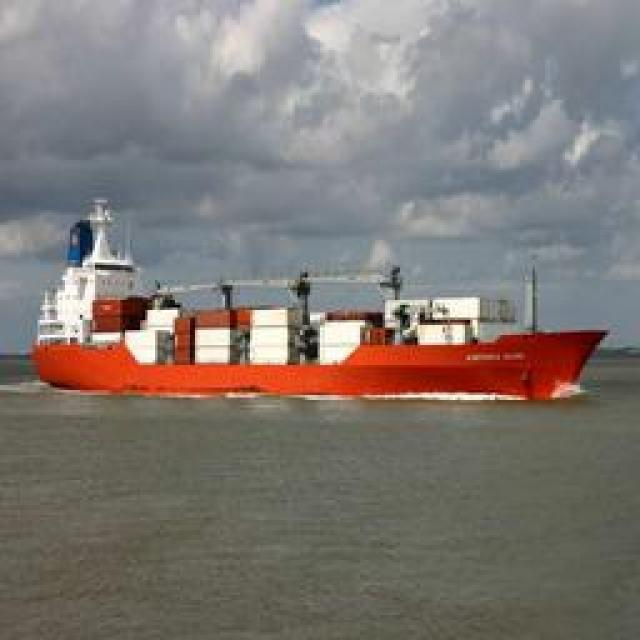ship2: (29, 198, 610, 402)
